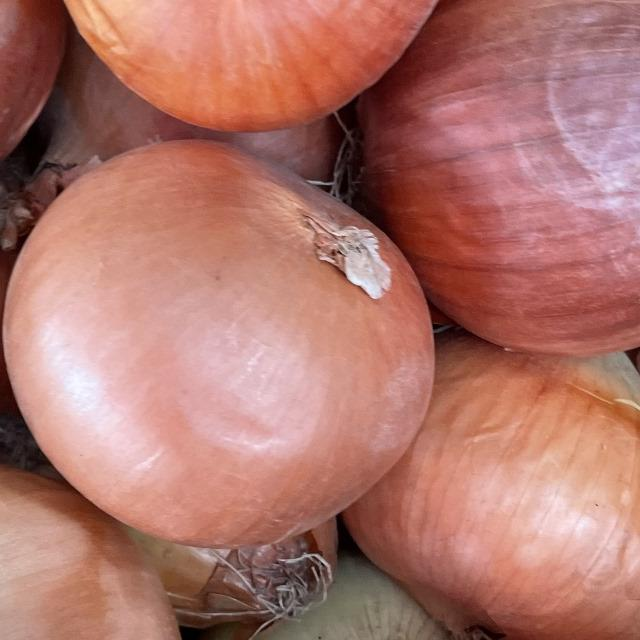onion: (0, 115, 462, 570), (12, 0, 512, 135)
